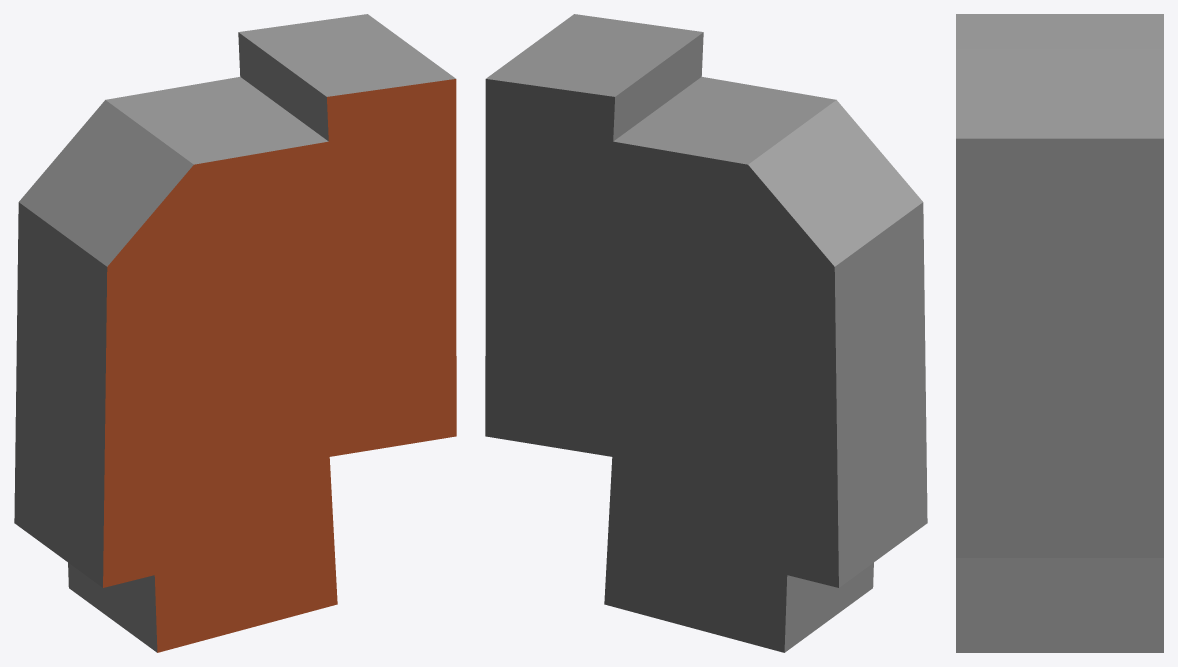
Rendered from construction_0542_assumed_A_Casa_h6m.obj.
3 renders of one model, left to right at view 1: azimuth 30°, elevation 25°; view 2: azimuth 150°, elevation 25°; view 3: azimuth 270°, elevation 25°, orthographic. The views are drawn at different scales.
Parts seen in each view (by area): view 1: construction_0542_assumed_A_Casa; view 2: construction_0542_assumed_A_Casa; view 3: construction_0542_assumed_A_Casa.
Boxes of the visible parts, x1,y1,x2,y2 form: construction_0542_assumed_A_Casa: (14,14,456,652); construction_0542_assumed_A_Casa: (485,14,927,652); construction_0542_assumed_A_Casa: (956,14,1163,652).
Bounding box in the file's own units: 13.83 × 19.24 × 6.
